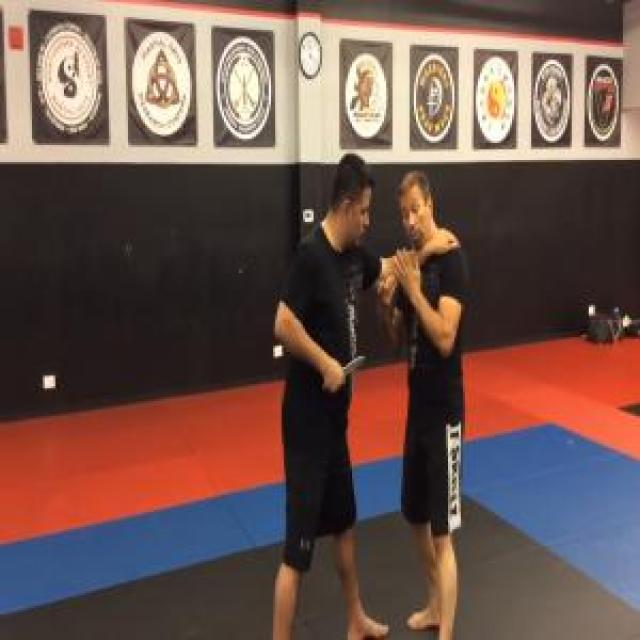knife: (320, 350, 367, 395)
